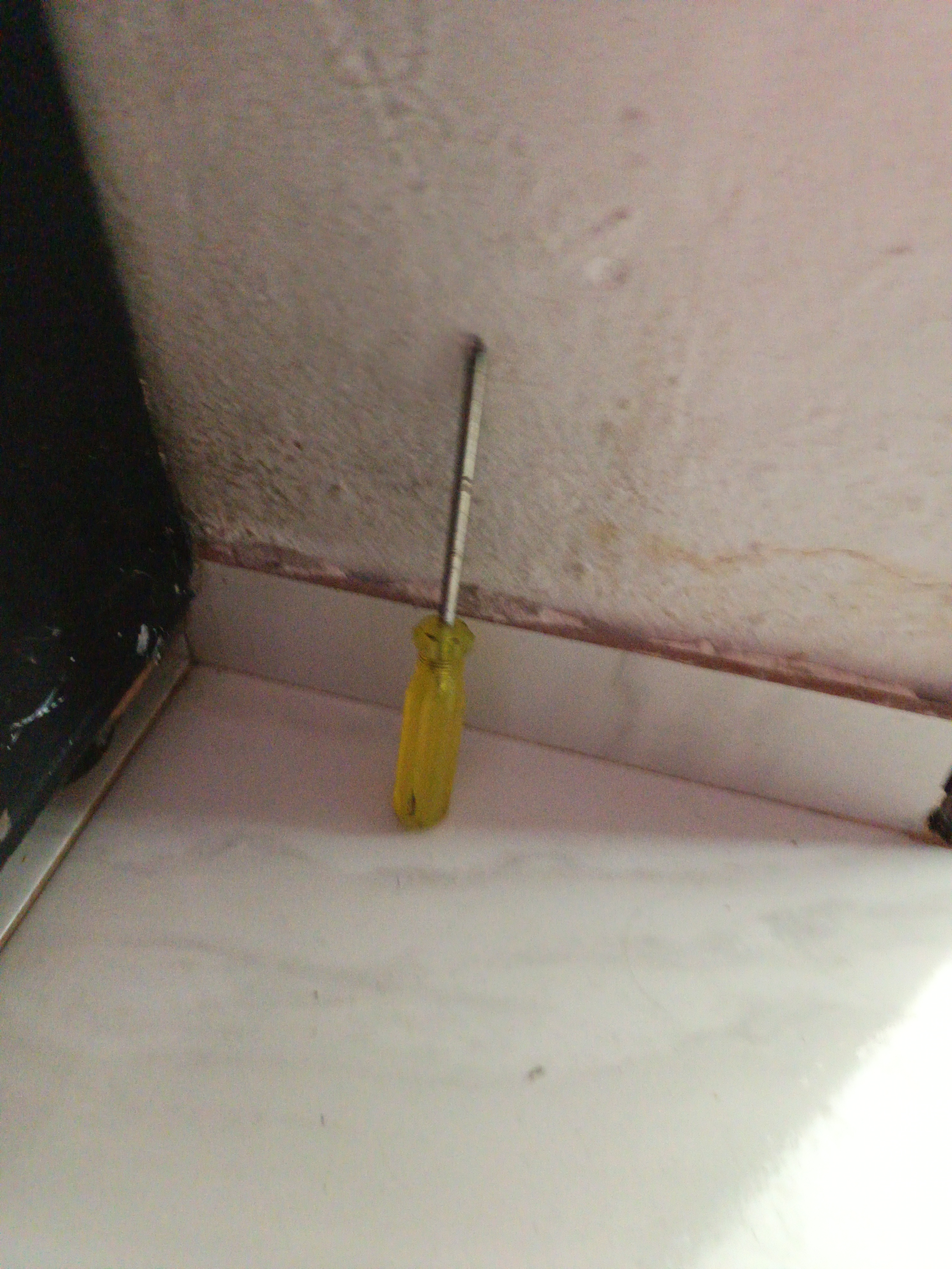Destornillador: (393, 335, 488, 828)
